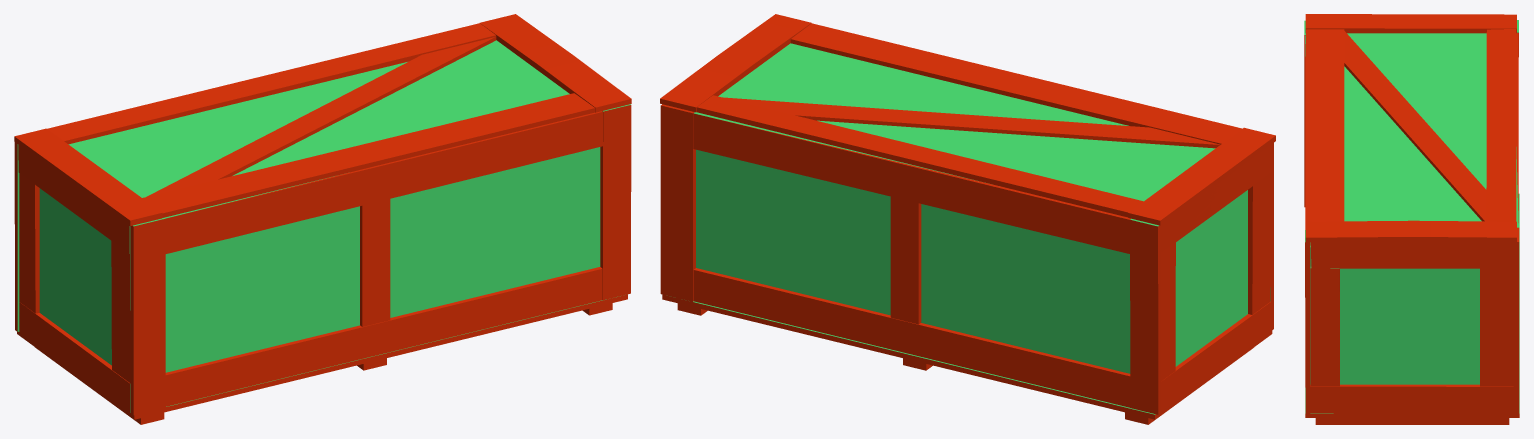
The model's file is Duża.fbx.
3 renders of one model, left to right at view 1: azimuth 30°, elevation 25°; view 2: azimuth 150°, elevation 25°; view 3: azimuth 270°, elevation 25°, orthographic. The views are drawn at different scales.
Parts seen in each view (by area): view 1: Box584; view 2: Box584; view 3: Box584.
Boxes of the visible parts, left/top/right/bottom form: Box584: left=14, top=14, right=631, bottom=424; Box584: left=660, top=14, right=1275, bottom=424; Box584: left=1304, top=14, right=1519, bottom=424.
Size of the model in its own units: 125 by 50.64 by 50.85.
